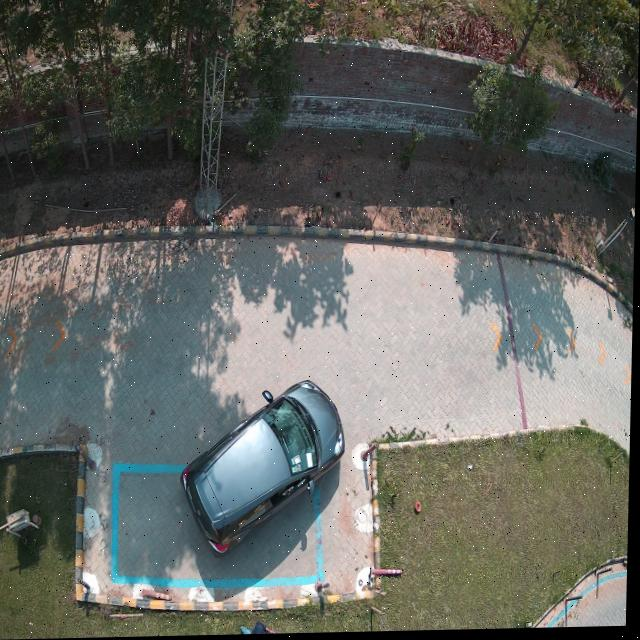car: (209, 420, 293, 516)
